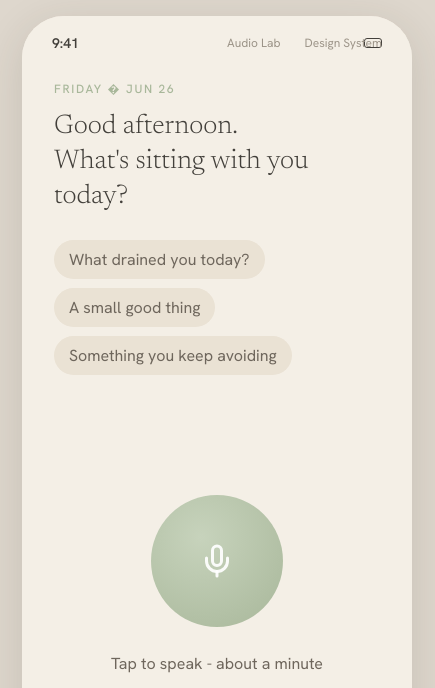
Test case: Echo app shell › auto-finishes the recording screen at the 60 second cap
Click the button named "start recording" at point(217, 561), box [151,495,283,627]
Wait 60000 ms
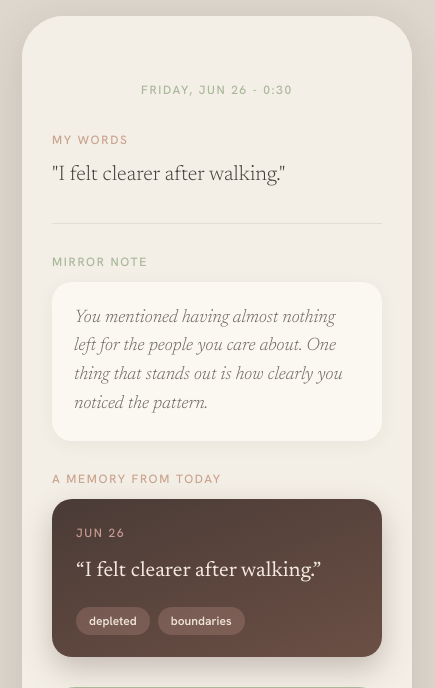
Now the text "MY WORDS" is shown, box [52,132,128,148]
